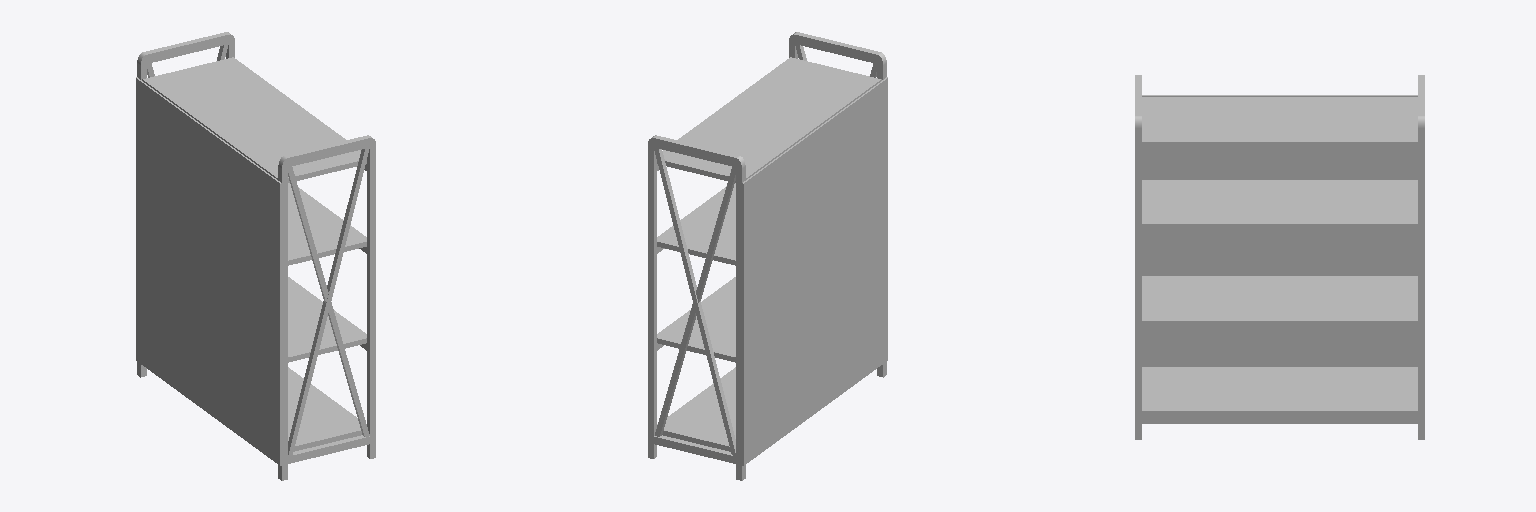
File: new stilage v2.obj
3 renders of one model, left to right at view 1: azimuth 30°, elevation 25°; view 2: azimuth 150°, elevation 25°; view 3: azimuth 270°, elevation 25°, orthographic.
Visible parts, largest first — view 1: Cube.016, Cube.023, Cube.020, Cube.001, Cube.021, Cube.022, Cube, Cube.015, Cube.014, Cube.002, Cube.007; view 2: Cube.016, Cube.023, Cube.002, Cube.020, Cube.021, Cube.022, Cube.003, Cube.008, Cube.009, Cube.001, Cube.006; view 3: Cube.016, Cube.023, Cube.021, Cube.022, Cube.020, Cube, Cube.003, Cube.004, Cube.012, Cube.011, Cube.019.
Boxes of the visible parts, box(x1,y1,x2,y2) form: Cube.016: box(136, 77, 281, 465); Cube.023: box(142, 57, 366, 182); Cube.020: box(288, 367, 361, 451); Cube.001: box(278, 136, 369, 480); Cube.021: box(288, 277, 366, 362); Cube.022: box(288, 183, 366, 265); Cube: box(367, 135, 375, 458); Cube.015: box(288, 148, 369, 455); Cube.014: box(288, 167, 369, 436); Cube.002: box(137, 32, 228, 377); Cube.007: box(288, 435, 369, 463); Cube.016: box(742, 77, 887, 465); Cube.023: box(657, 57, 881, 182); Cube.002: box(654, 136, 745, 480); Cube.020: box(657, 367, 735, 451); Cube.021: box(657, 277, 735, 362); Cube.022: box(657, 183, 735, 265); Cube.003: box(648, 135, 656, 458); Cube.008: box(654, 148, 735, 455); Cube.009: box(655, 167, 735, 436); Cube.001: box(795, 32, 886, 377); Cube.006: box(654, 435, 735, 463); Cube.016: box(1142, 95, 1417, 366); Cube.023: box(1142, 97, 1417, 146); Cube.021: box(1142, 276, 1417, 325); Cube.022: box(1142, 180, 1417, 228); Cube.020: box(1142, 367, 1417, 415); Cube: box(1135, 116, 1141, 439); Cube.003: box(1418, 116, 1424, 439); Cube.004: box(1142, 416, 1417, 423); Cube.012: box(1142, 229, 1417, 236); Cube.011: box(1142, 326, 1417, 332); Cube.019: box(1142, 147, 1417, 153).
Size of the model in its own units: 16.33 by 52.13 by 42.53.